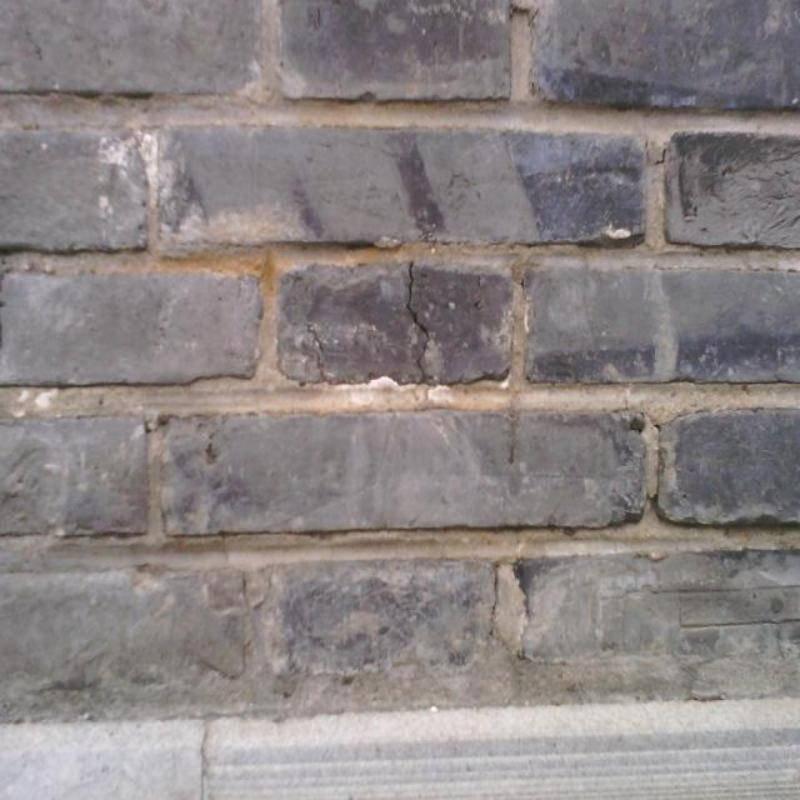crack: (406, 262, 430, 382)
